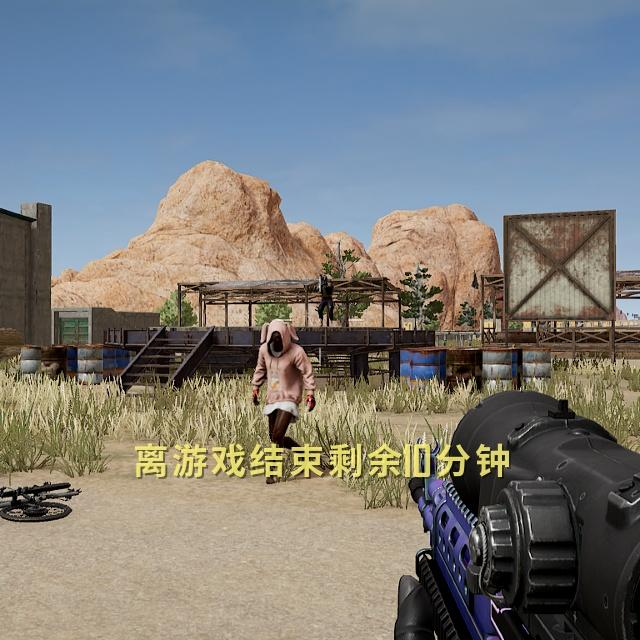head: (261, 317, 295, 358), (319, 273, 330, 283)
people: (250, 316, 316, 459), (313, 270, 342, 330)
